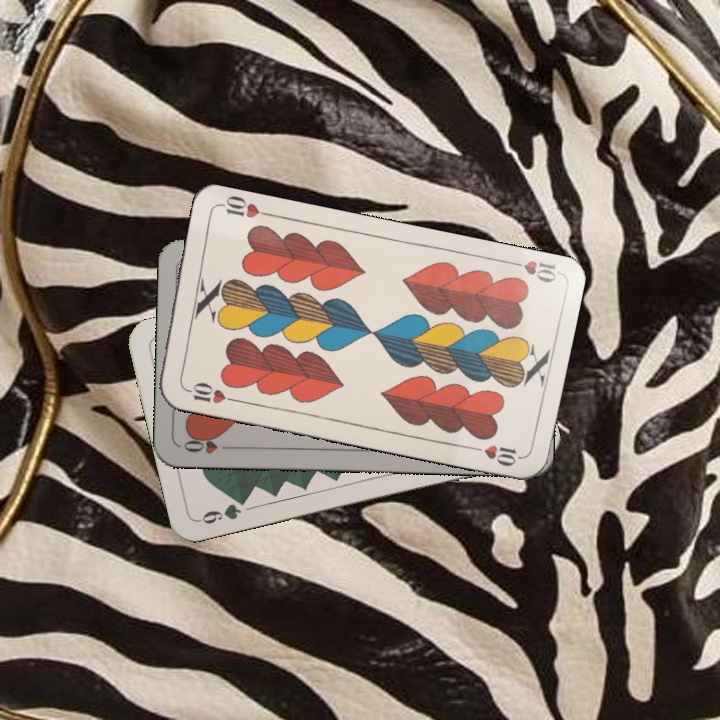G9: (194, 494, 250, 527)
H10: (502, 256, 561, 286), (180, 378, 238, 406)
HO: (179, 432, 237, 457)
